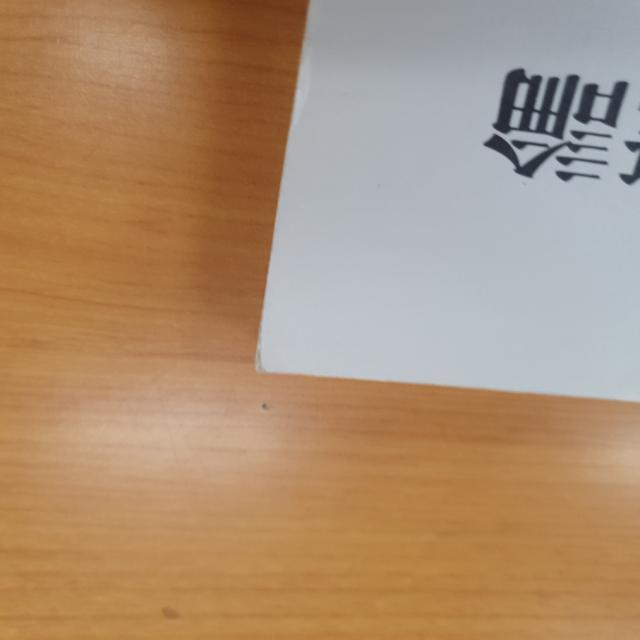Wornout: (248, 304, 275, 385)
